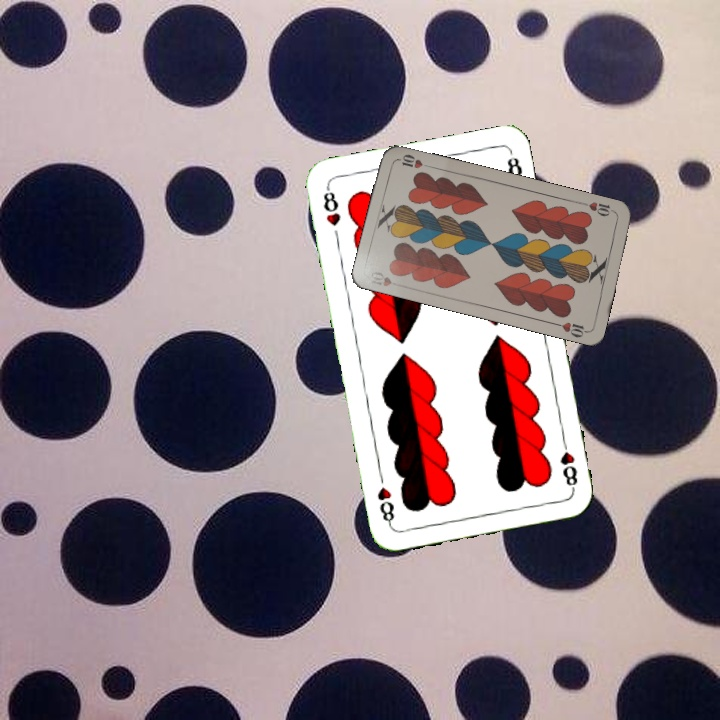H10: (366, 267, 405, 290), (579, 198, 618, 219)
H8: (556, 434, 580, 493), (319, 183, 343, 229)
